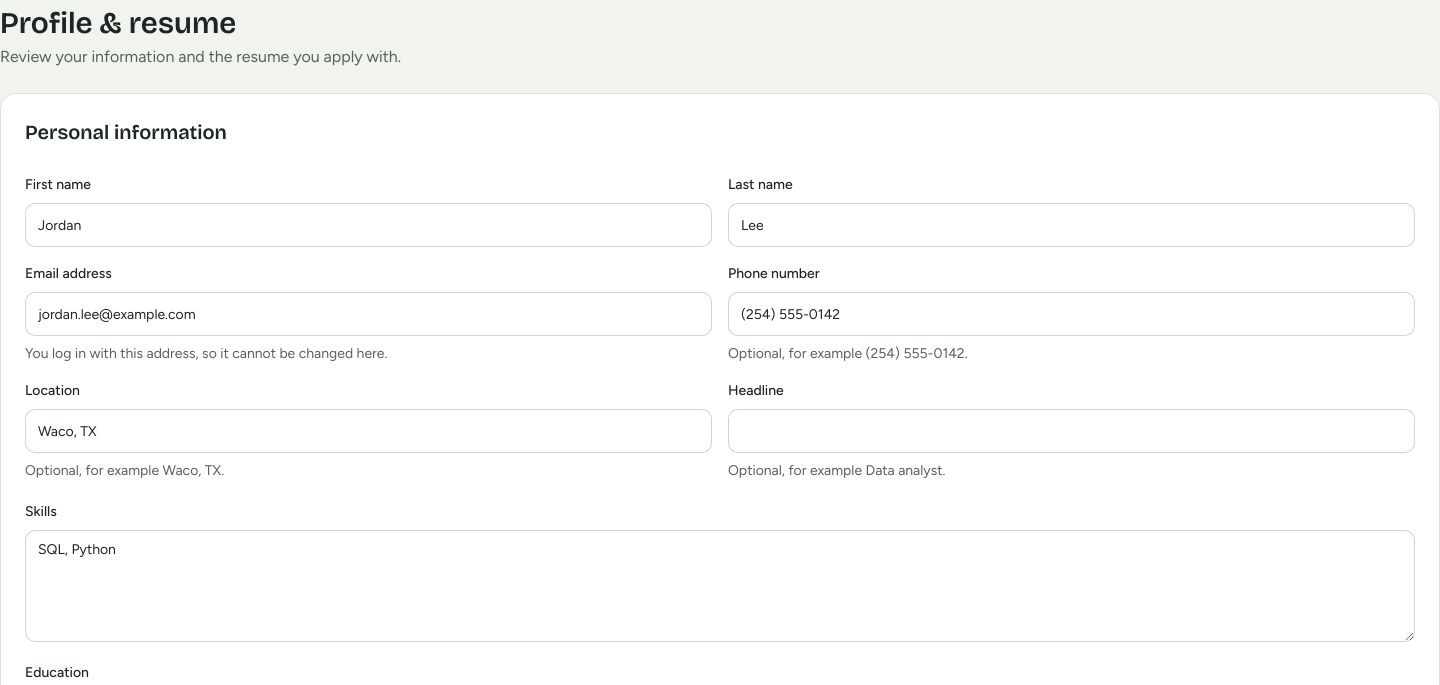
Test: ProfilePreview › shows each refused field's reason next to it and moves focus to the first (extension 4a)
Clear the field labelled "First name" at (368, 225), box [25,203,712,247]
(page scrolled)
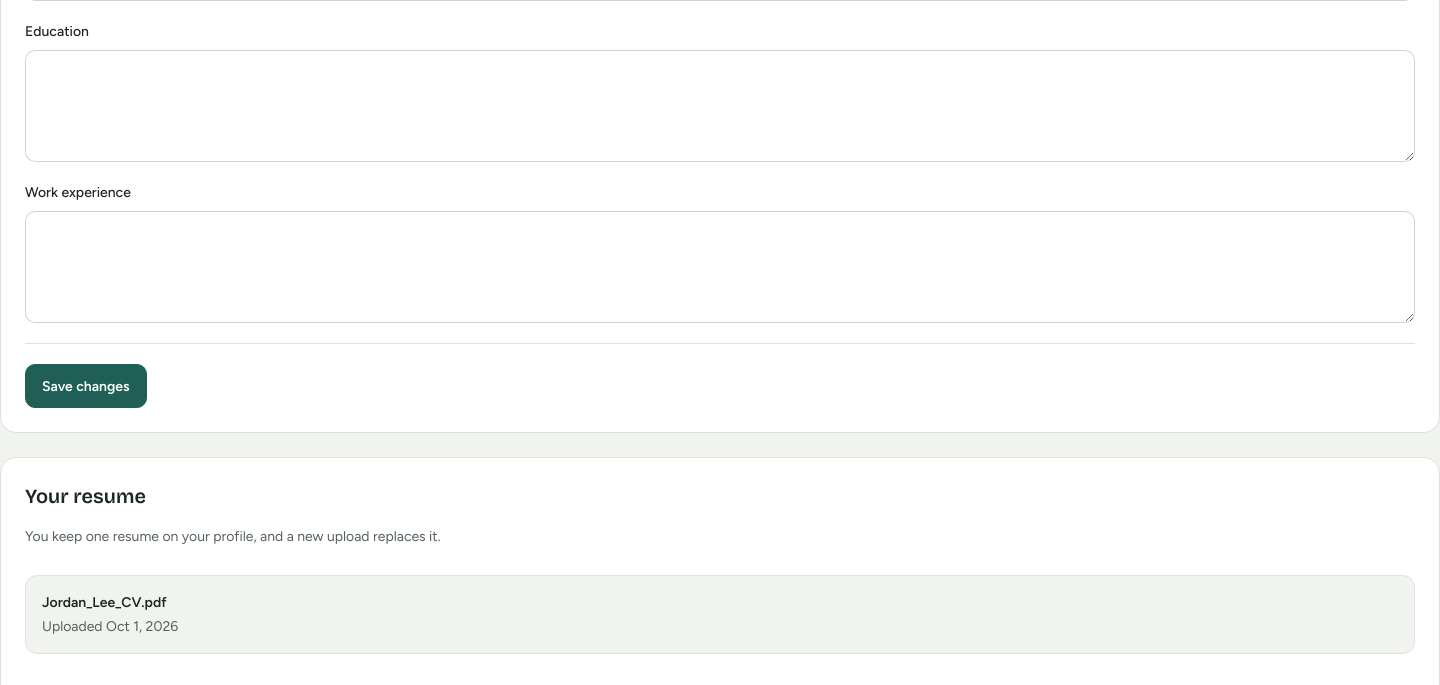
Click the button "Save changes".
click(86, 386)  # box [25,364,146,408]
(page scrolled)
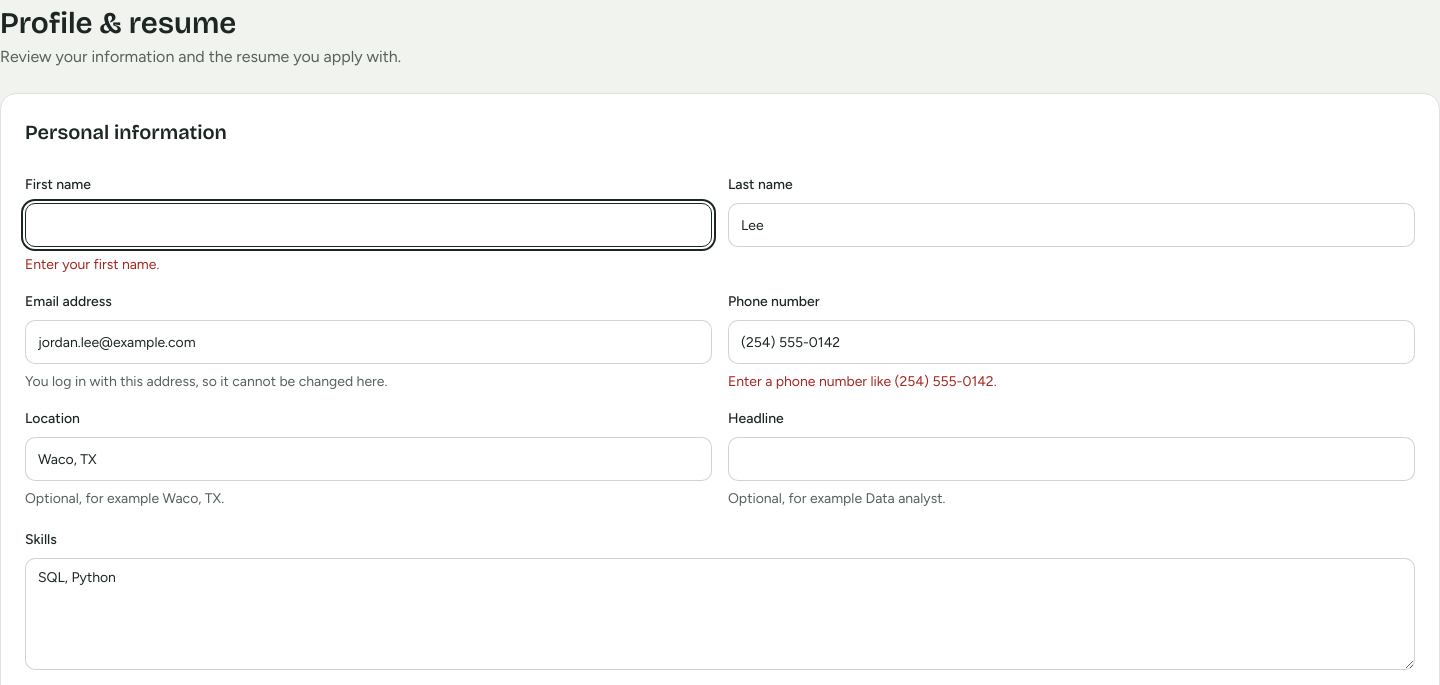
Result: the text "Enter your first name." is shown at [25,256,159,273]
